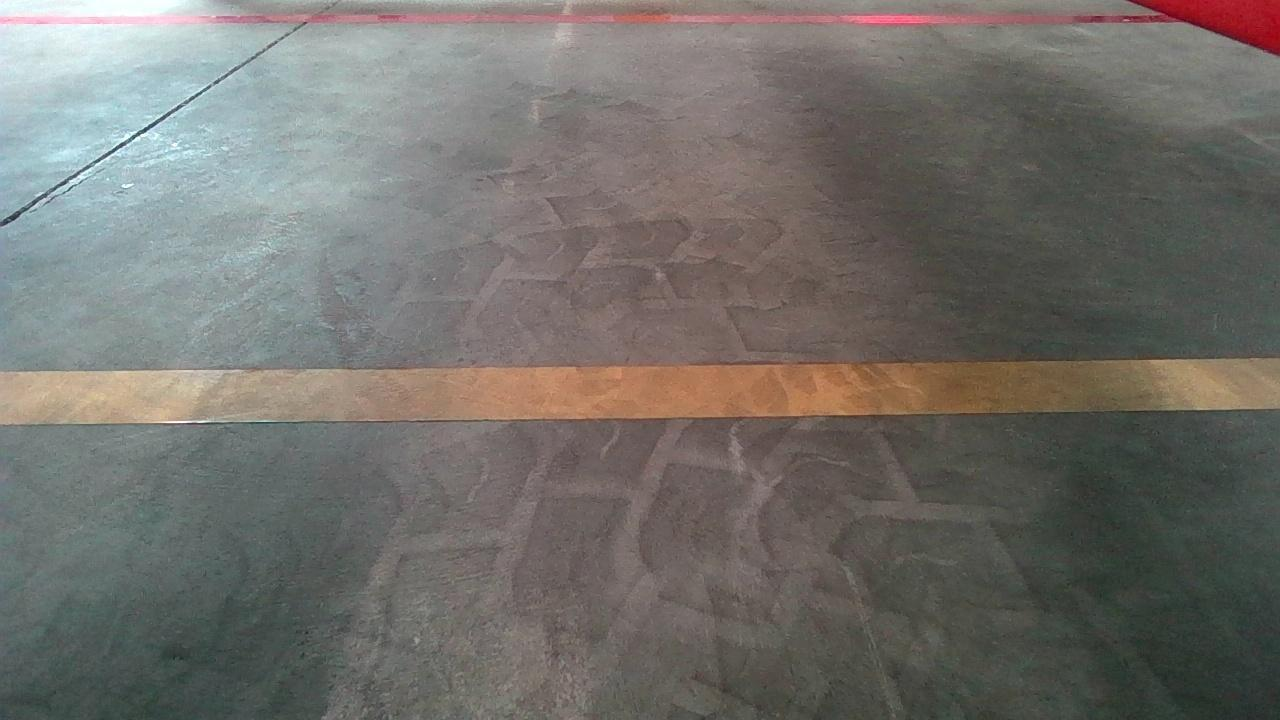red_line: (13, 9, 1168, 28)
yellow_line: (9, 355, 1253, 423)
